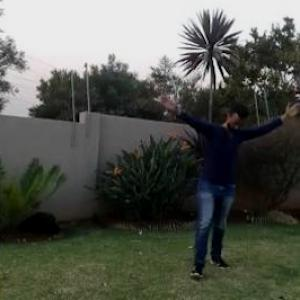takeoff: (157, 83, 295, 284)
